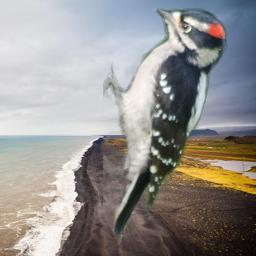Woodpecker: (103, 1, 229, 244)
